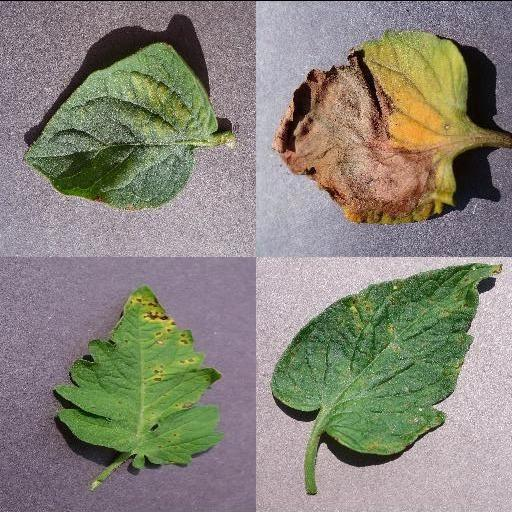Late Blight: (271, 26, 469, 222)
Septoria: (273, 263, 502, 455), (52, 283, 221, 469)
Spider Mites: (21, 42, 219, 210)
